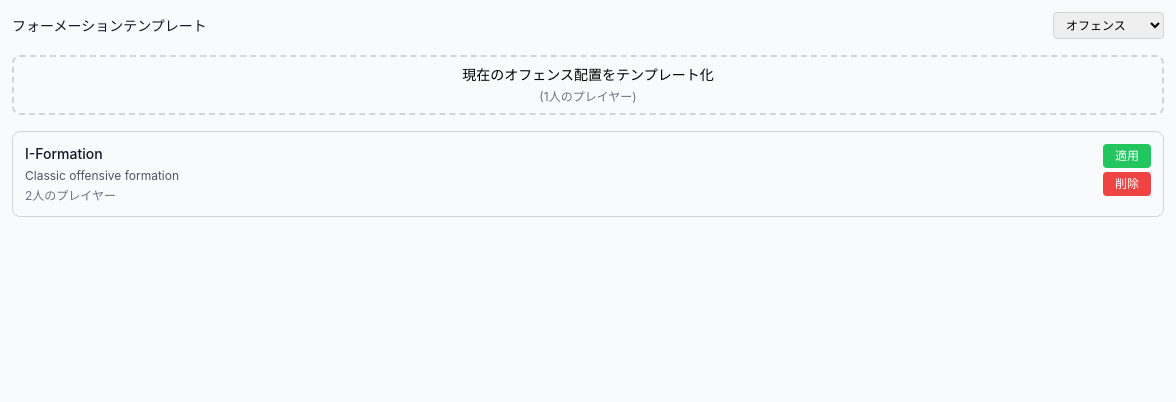
Test case: FormationTemplateManager Component › 新規テンプレート作成 › 作成フォームが正しく表示されること
The image size is (1176, 402).
Click the button "現在のオフェンス配置をテンプレート化 (1人のプレイヤー)" at {"x": 588, "y": 85}, box [12,55,1164,115]
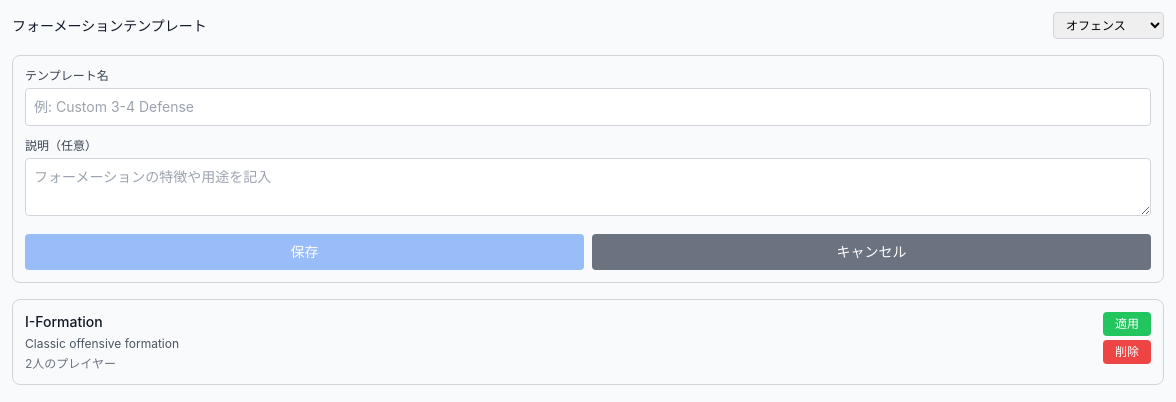
Now the text "テンプレート名" is shown, box [25,68,109,83]
Now the text "説明（任意）" is shown, box [25,138,97,153]
Now the field with placeholder "例: Custom 3-4 Defense" is shown, box [25,88,1151,126]
